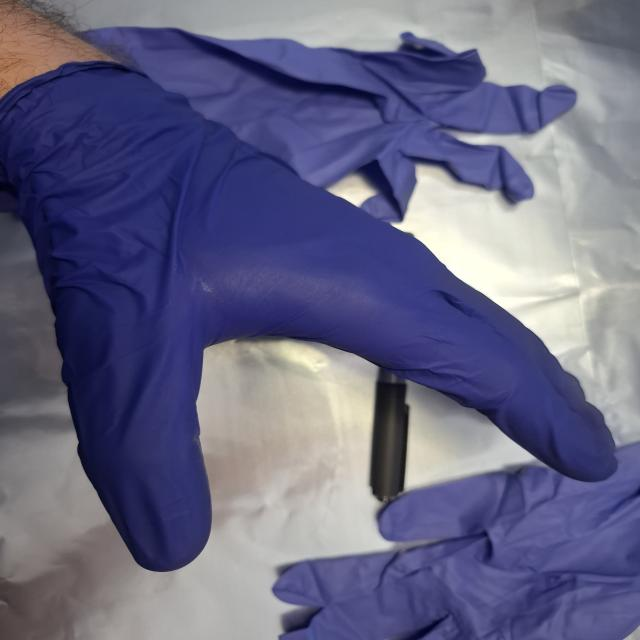glove_on: (0, 56, 622, 574)
